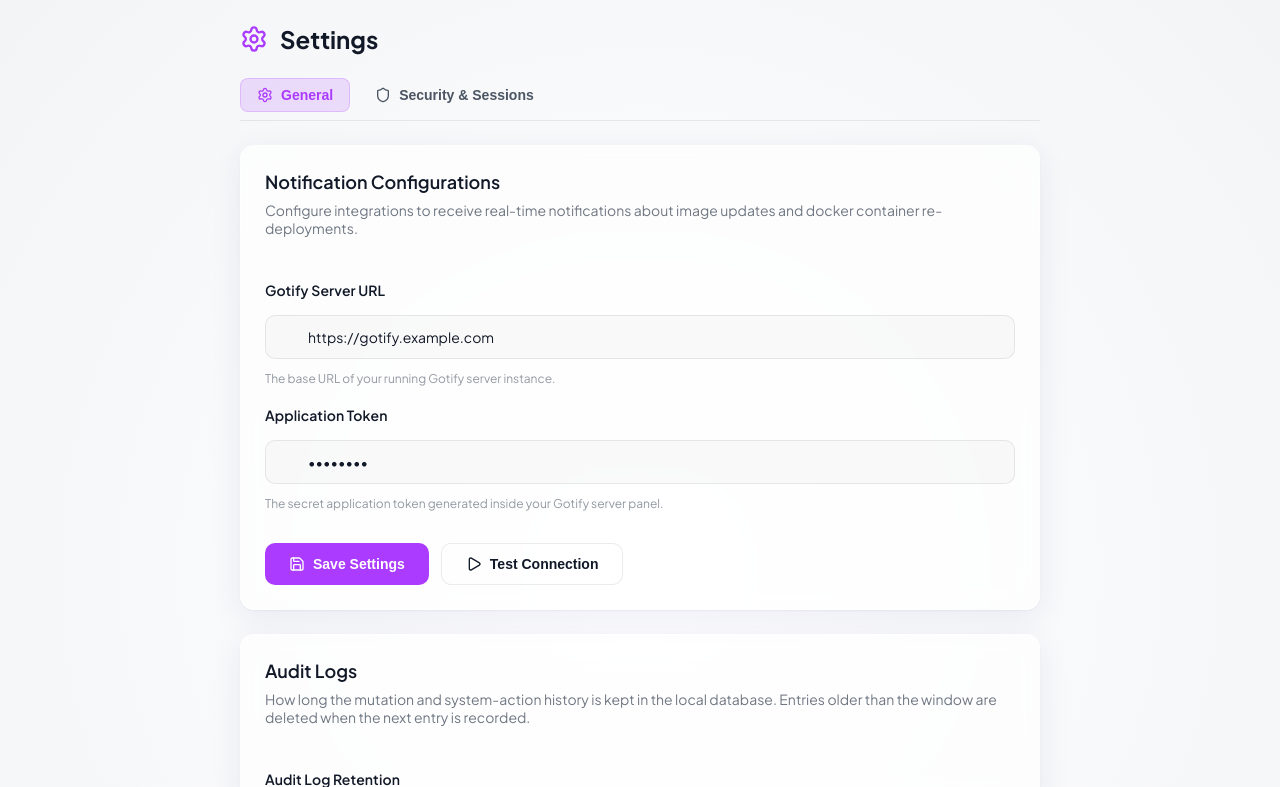
Scenario: Settings Component › deletes a passkey successfully
Click the button "Security & Sessions".
click(454, 95)  # box [358,78,551,112]
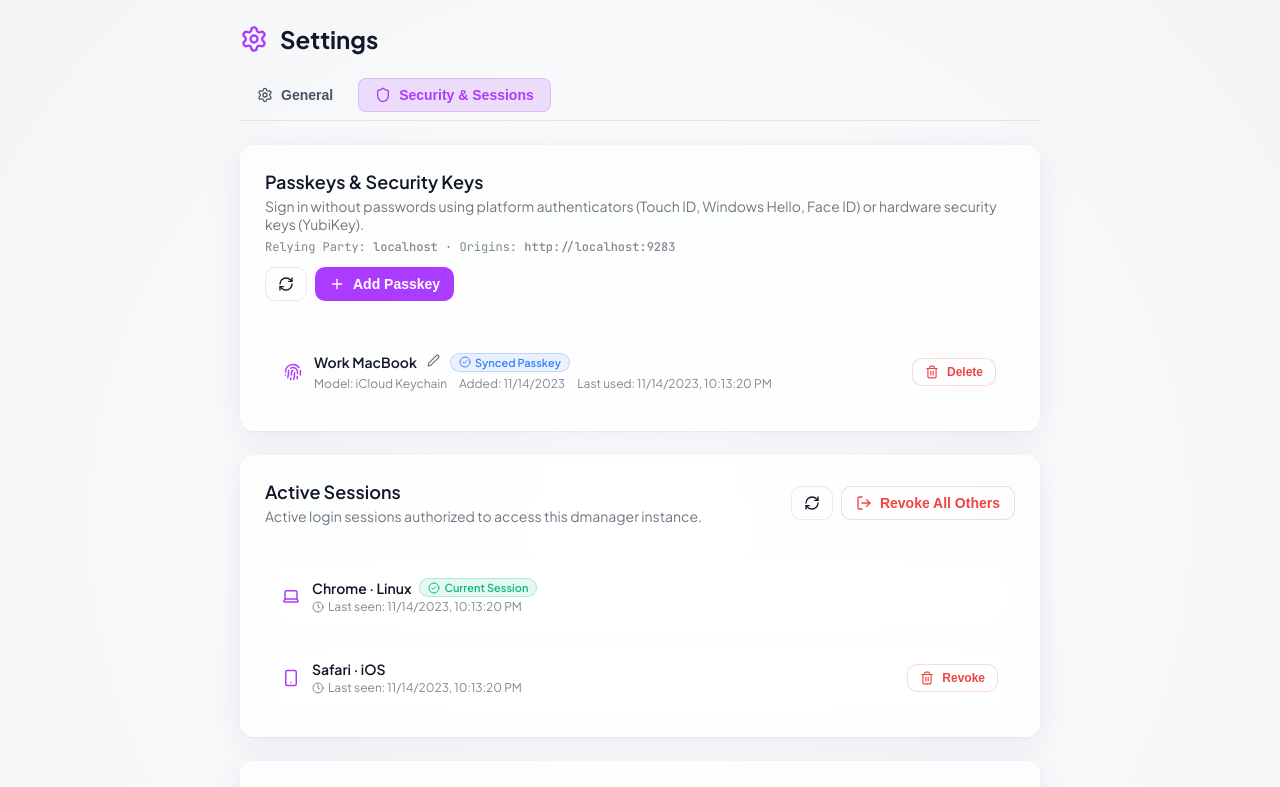
Expected: the text "Work MacBook" is shown, [314,353,417,371]
Click the button "Delete".
click(954, 372)  # box [912,358,996,386]
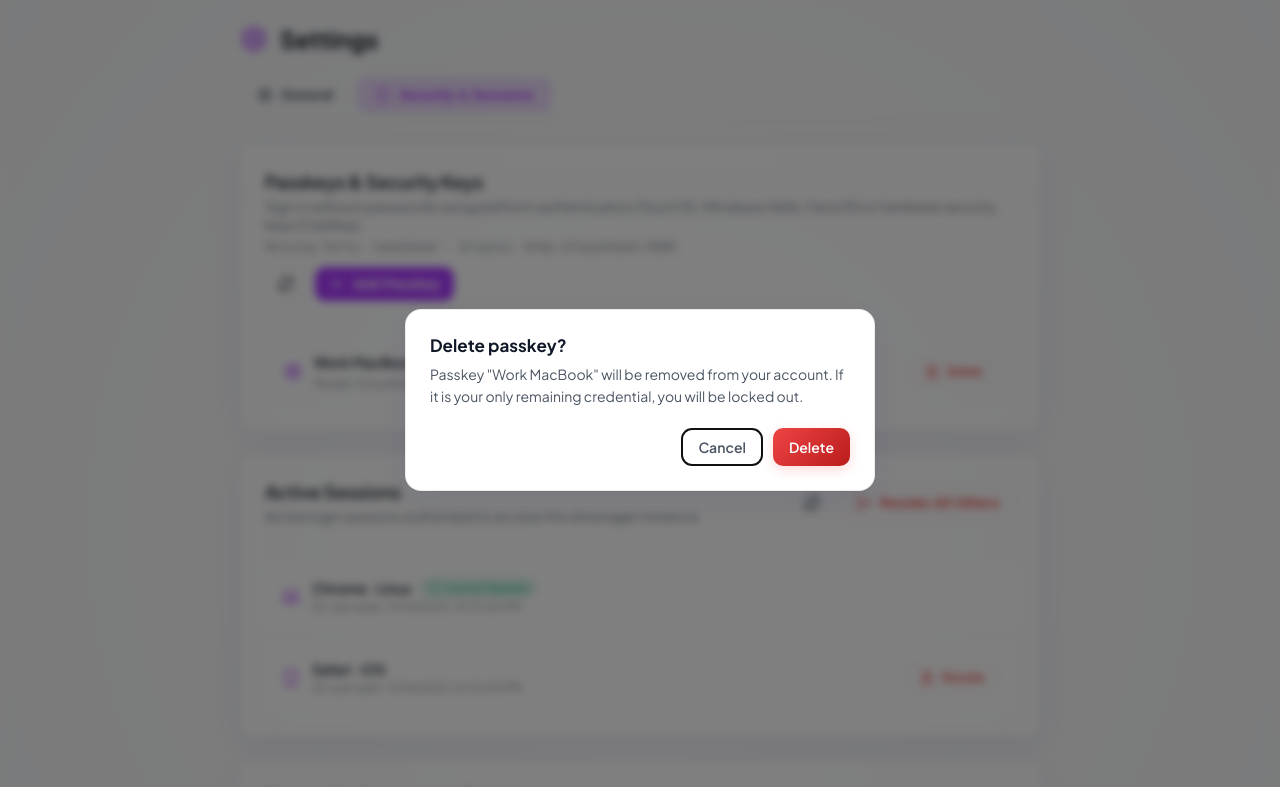
Click the button "Delete".
click(811, 447)  # box [773,428,850,466]
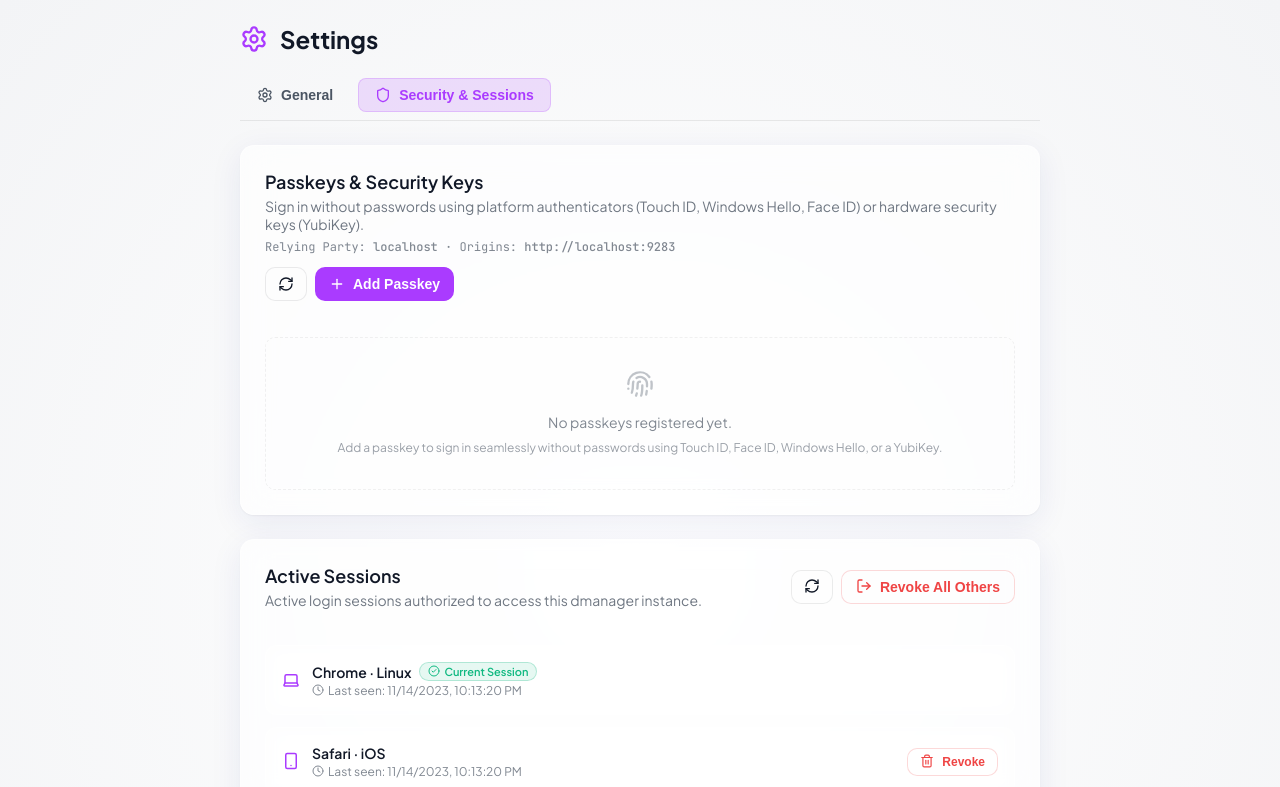
Expected: the text "Work MacBook" is gone
